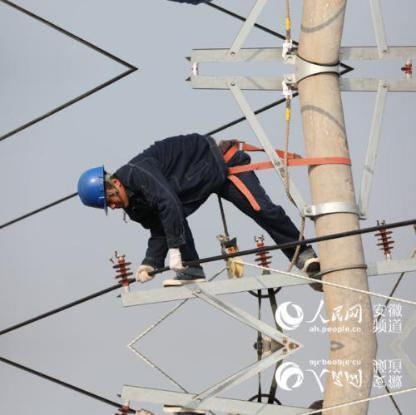helmet: (74, 164, 110, 217)
